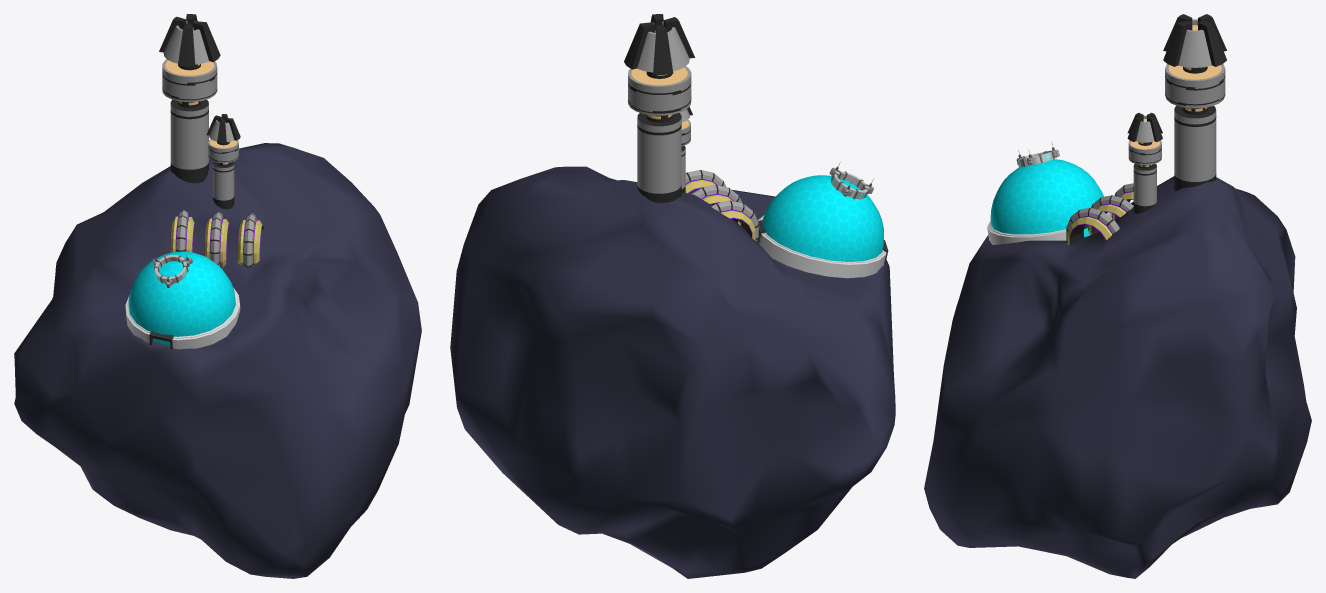
The model's file is PodBase_05.fbx.
3 views of the same model, side by side, from view 1: azimuth 30°, elevation 25°; view 2: azimuth 150°, elevation 25°; view 3: azimuth 270°, elevation 25° (orthographic). The views are drawn at different scales.
Parts seen in each view (by area): view 1: SM_Env_Astroid_08, TowerDevice_08, DomeSphere_01, TowerDevice_09, DomeGate_01, GroundRing_11, GroundRing_09, GroundRing_10, RingGate_01; view 2: SM_Env_Astroid_08, TowerDevice_08, DomeSphere_01, DomeGate_01, GroundRing_10, RingGate_01, GroundRing_09, GroundRing_11, TowerDevice_09; view 3: SM_Env_Astroid_08, TowerDevice_08, DomeSphere_01, TowerDevice_09, GroundRing_11, DomeGate_01, GroundRing_09.
Part boxes in pixels (x1,y1,x2,y2): SM_Env_Astroid_08: (14,143,421,578); TowerDevice_08: (159,14,220,183); DomeSphere_01: (128,251,235,336); TowerDevice_09: (206,114,240,209); DomeGate_01: (125,287,240,349); GroundRing_11: (237,213,263,267); GroundRing_09: (204,212,229,267); GroundRing_10: (170,210,194,252); RingGate_01: (152,254,192,288); SM_Env_Astroid_08: (450,166,895,578); TowerDevice_08: (624,14,694,202); DomeSphere_01: (762,175,883,261); DomeGate_01: (757,215,888,278); GroundRing_10: (711,200,758,241); RingGate_01: (829,162,873,199); GroundRing_09: (691,185,742,225); GroundRing_11: (685,170,725,204); TowerDevice_09: (679,107,692,192); SM_Env_Astroid_08: (924,176,1311,578); TowerDevice_08: (1163,14,1226,191); DomeSphere_01: (990,159,1103,234); TowerDevice_09: (1127,112,1162,213); GroundRing_11: (1066,208,1119,245); DomeGate_01: (987,212,1111,244); GroundRing_09: (1088,195,1133,235).
Bounding box in the file's own units: 769 × 987 × 656.
